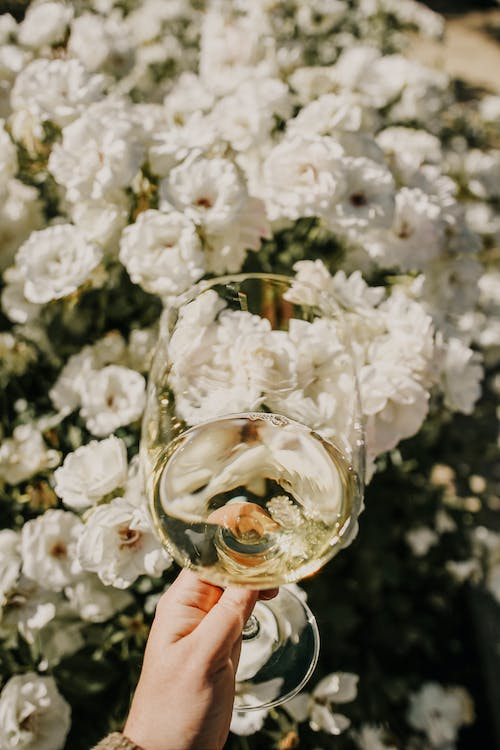alcohol: (138, 270, 366, 714)
